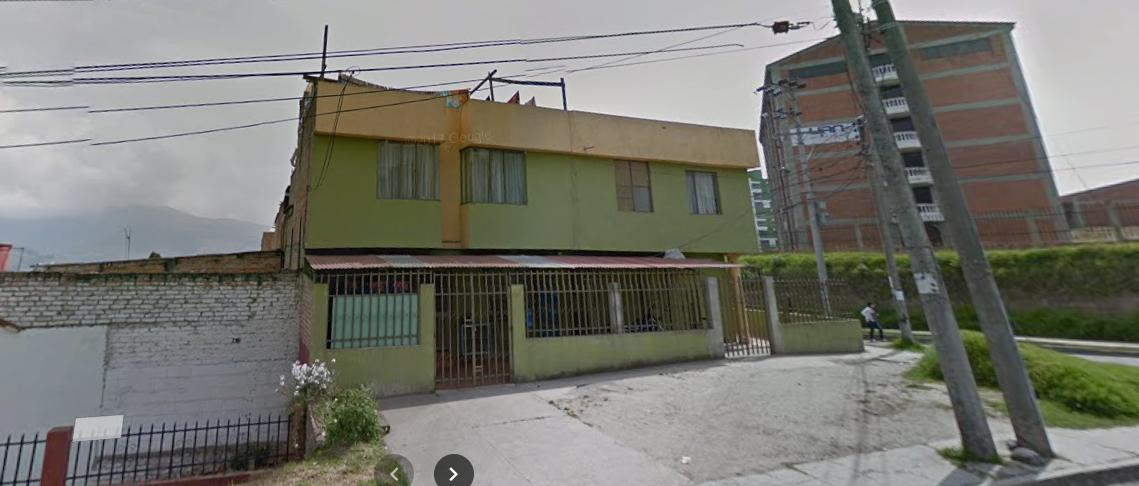casa: (264, 75, 862, 395)
poste: (872, 0, 1053, 455), (831, 0, 997, 458), (764, 77, 830, 312)
